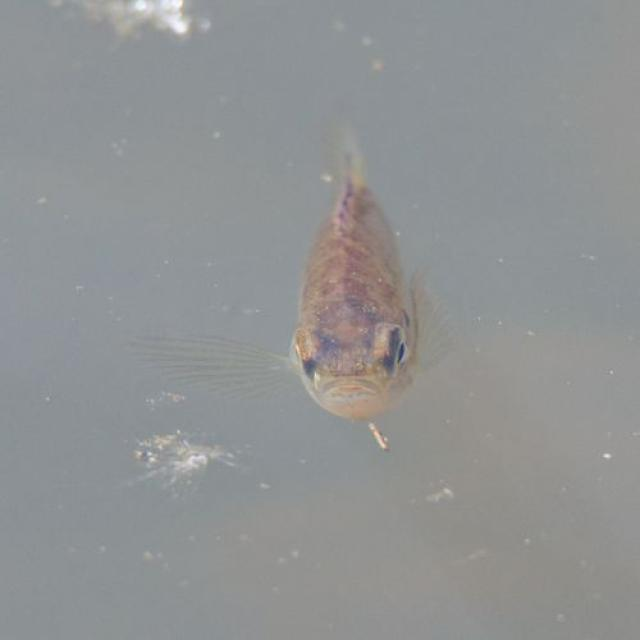Gunes Levregi: (132, 130, 454, 464)
